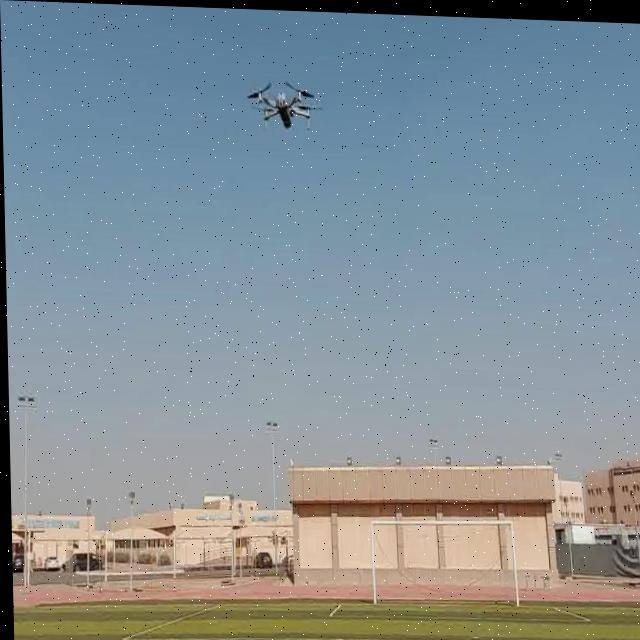drone: (247, 66, 320, 138)
